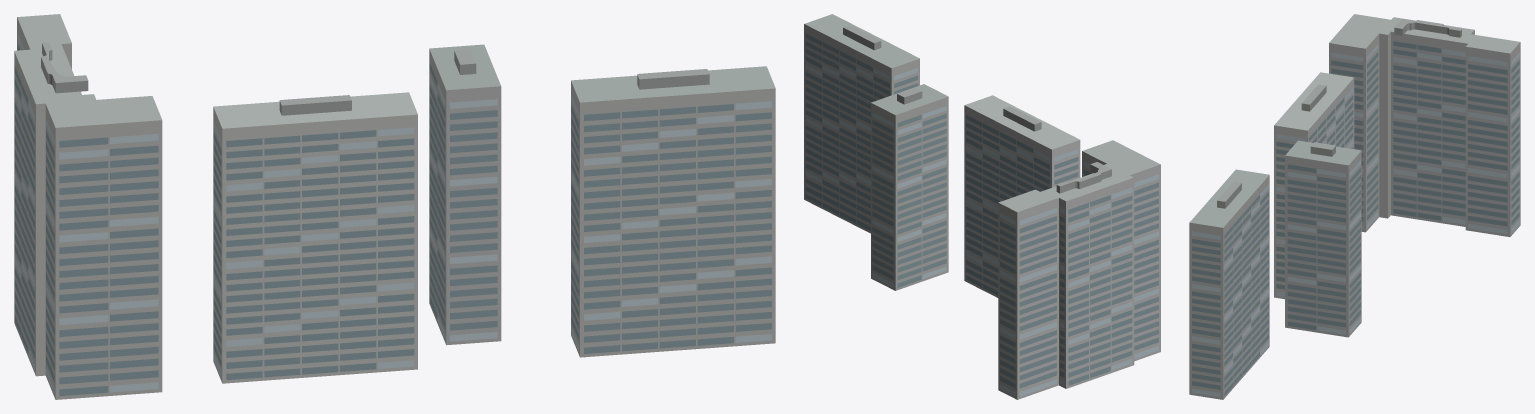
The model's file is apt-a15004405.glb.
3 renders of one model, left to right at view 1: azimuth 30°, elevation 25°; view 2: azimuth 150°, elevation 25°; view 3: azimuth 270°, elevation 25°, orthographic. The views are drawn at different scales.
Parts seen in each view (by area): view 1: apt-a15004405; view 2: apt-a15004405; view 3: apt-a15004405.
Part boxes in pixels (x1,y1,x2,y2): apt-a15004405: (14, 14, 775, 399); apt-a15004405: (804, 14, 1160, 399); apt-a15004405: (1189, 14, 1520, 399).
Size of the model in its own units: 150 by 66 by 104.
